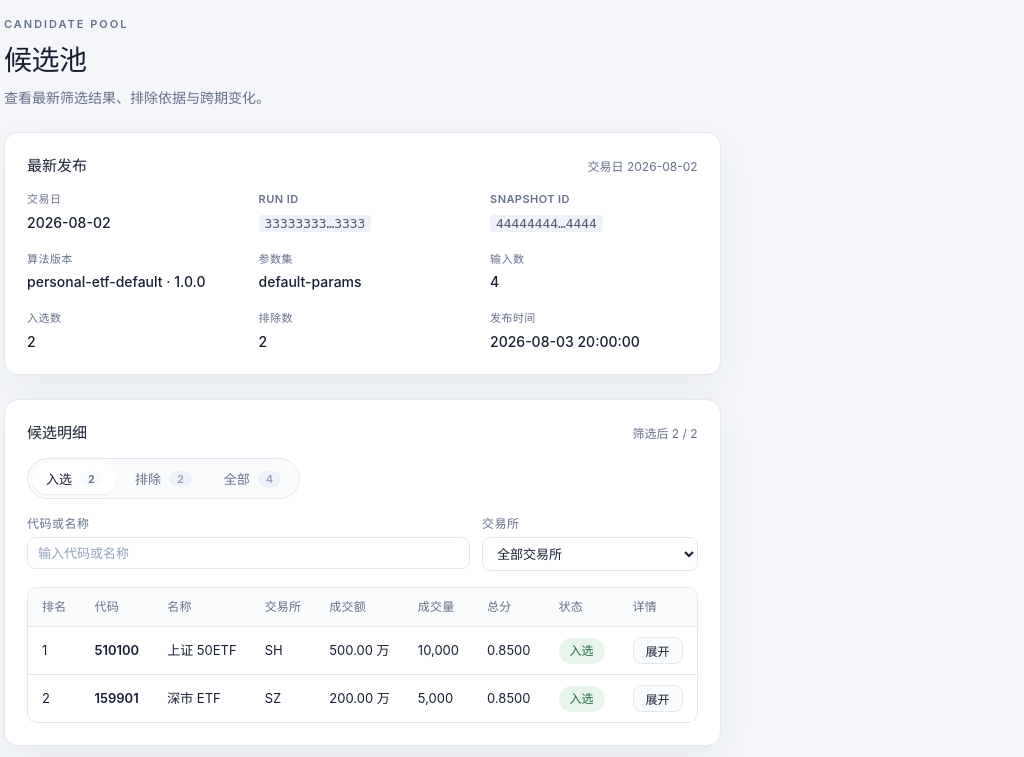
Scenario: CandidatePoolPage › row expansion › expands and collapses the details panel for an included row
The image size is (1024, 757).
Click the button with aria-label "展开 510100 详情". click: (658,651)
box: [632,637,682,664]
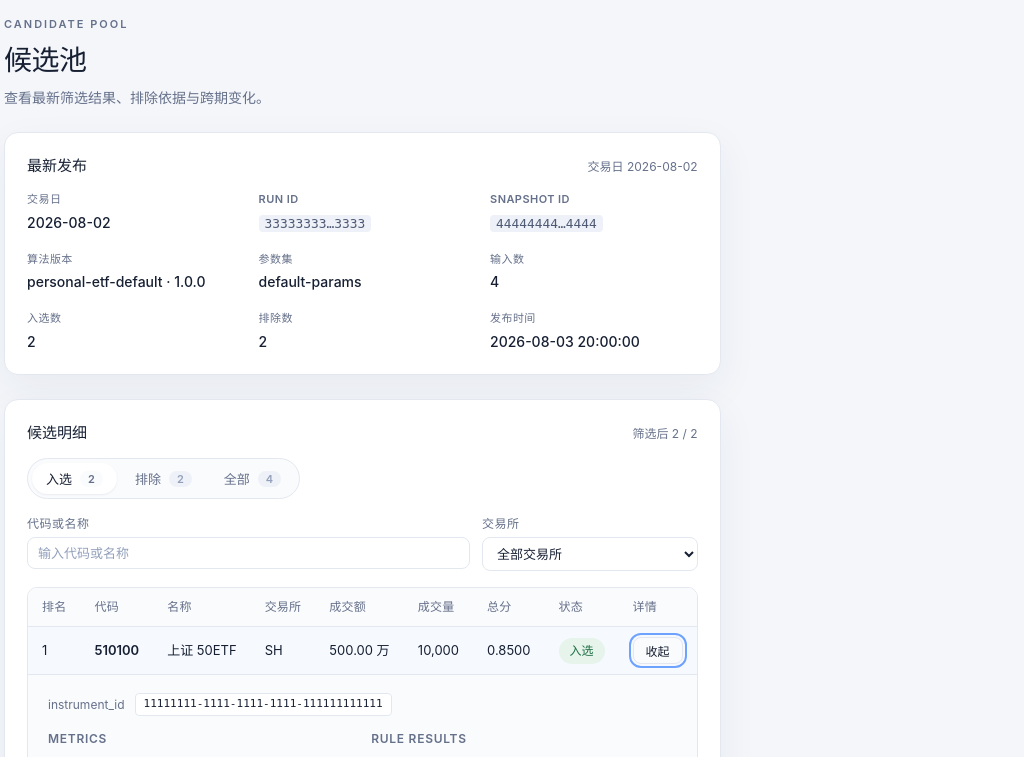
Result: the button with aria-label "收起 510100 详情" is expanded
Click the button with aria-label "收起 510100 详情". click: (658,651)
box: [632,637,682,664]
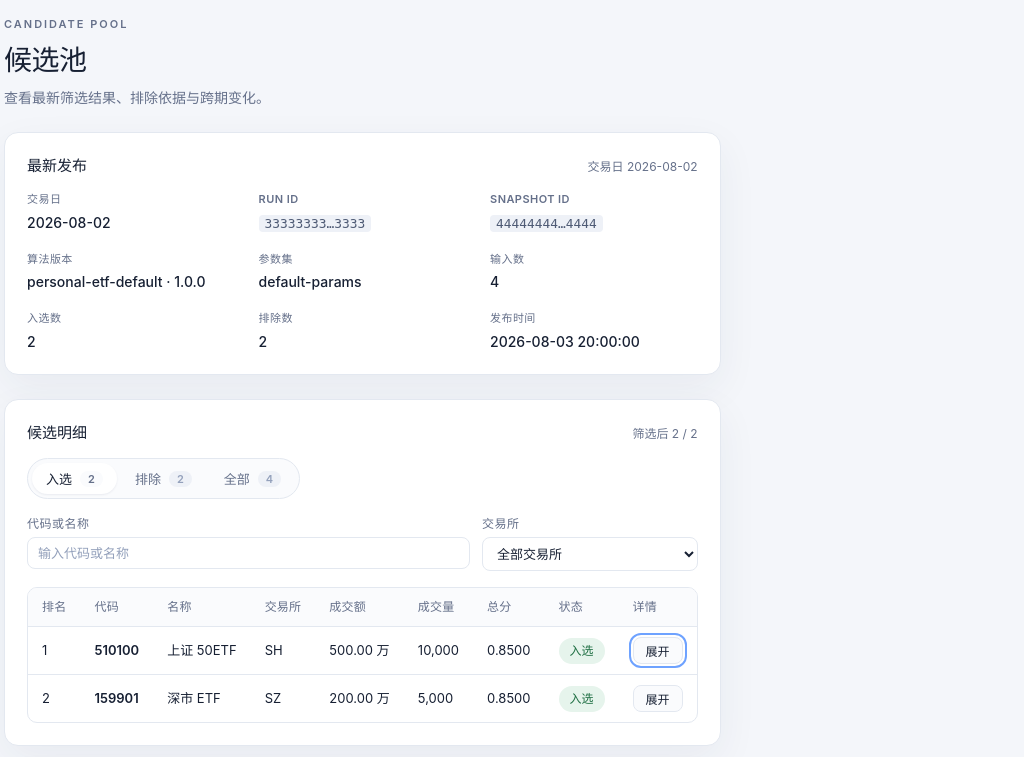
Result: the button with aria-label "展开 510100 详情" is collapsed at [632,637,682,664]
